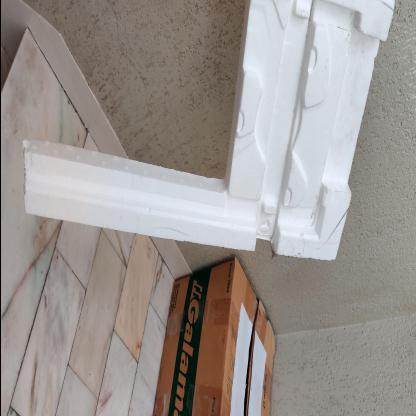karton: (149, 256, 277, 415)
kopuk: (21, 0, 399, 264)
